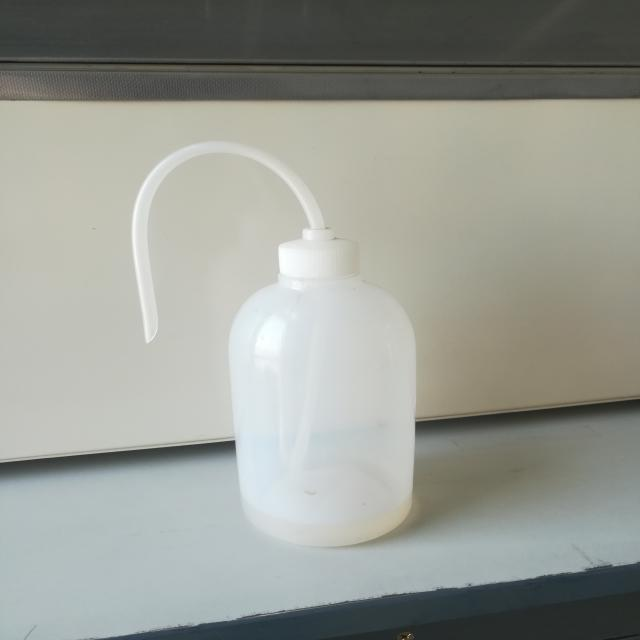Wash_Bottle: (98, 108, 458, 577)
